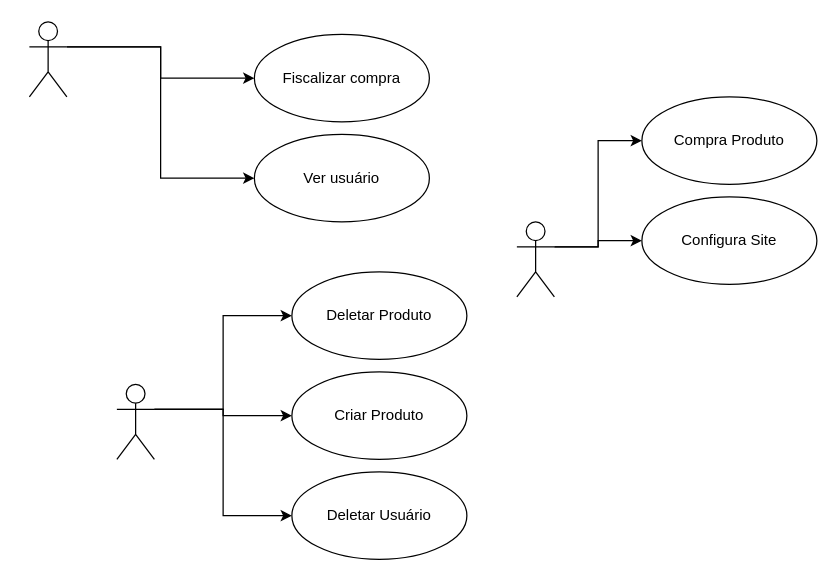
Image size: 839x581. Some labels were removed from this diagram. The shapes that lost their labels are listed below. From the top down, each one's centre as x and y in pixels, then its label:
the point at 47,59: Gerente
the point at 535,259: Cliente
the point at 135,421: Admin
